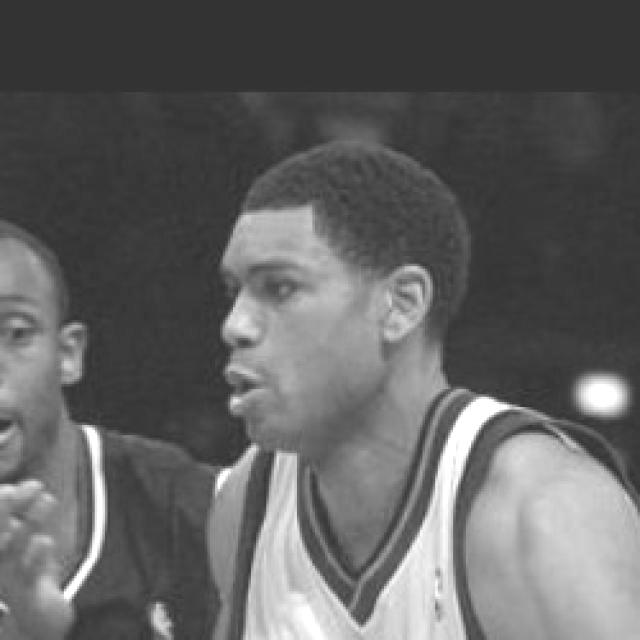real: (216, 206, 454, 458), (222, 264, 312, 312), (3, 311, 48, 355)
